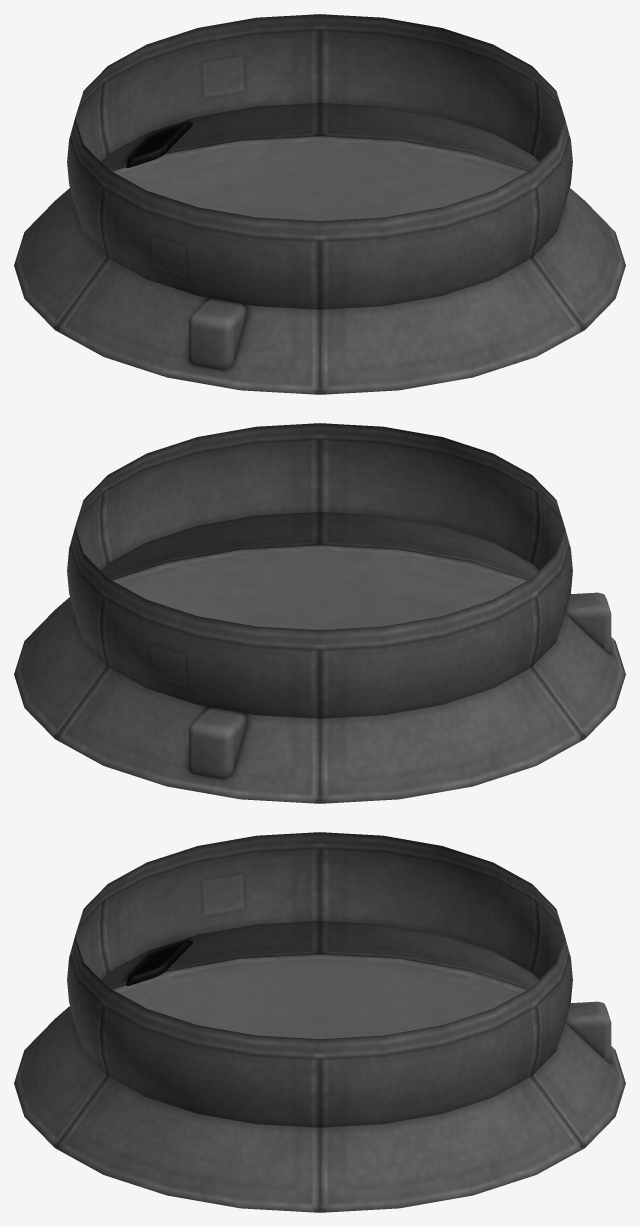
File: port base.obj
3 views of the same model, one above another, from view 1: azimuth 30°, elevation 25°; view 2: azimuth 150°, elevation 25°; view 3: azimuth 270°, elevation 25° (orthographic).
Visible parts, largest first — view 1: fabric base; view 2: fabric base; view 3: fabric base.
Part boxes in pixels (box(x1,y1,x2,y2)): fabric base: box(14, 14, 625, 394); fabric base: box(14, 423, 625, 803); fabric base: box(14, 832, 625, 1212).
Bounding box in the file's own units: 0.9375 × 0.275 × 0.9375.
1 material, 1 textured.
